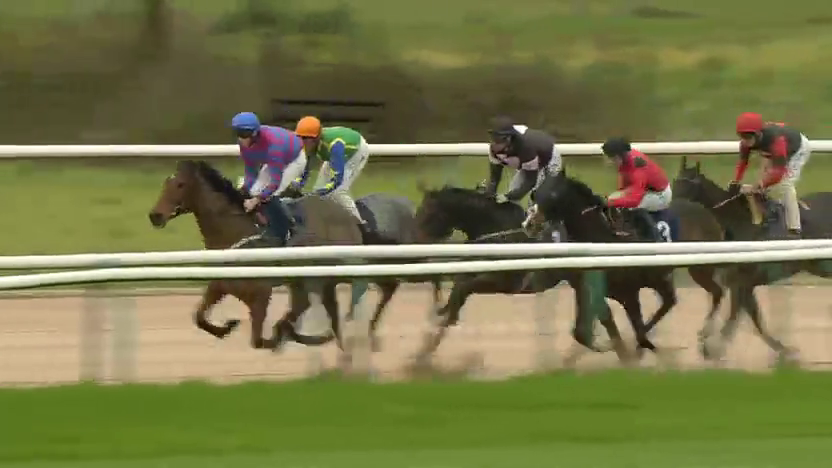jockey: (735, 112, 810, 237), (292, 118, 372, 235), (232, 113, 307, 215), (597, 137, 672, 239), (488, 119, 562, 221)
